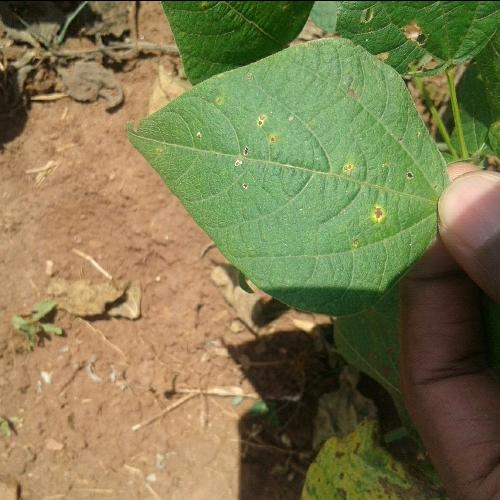hawar: (209, 107, 395, 238)
